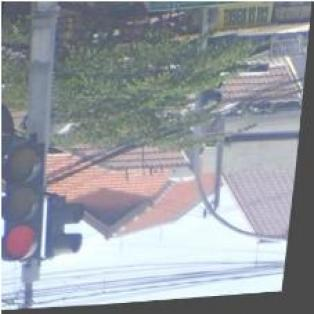Semaforo Rojo: (0, 144, 53, 264)
